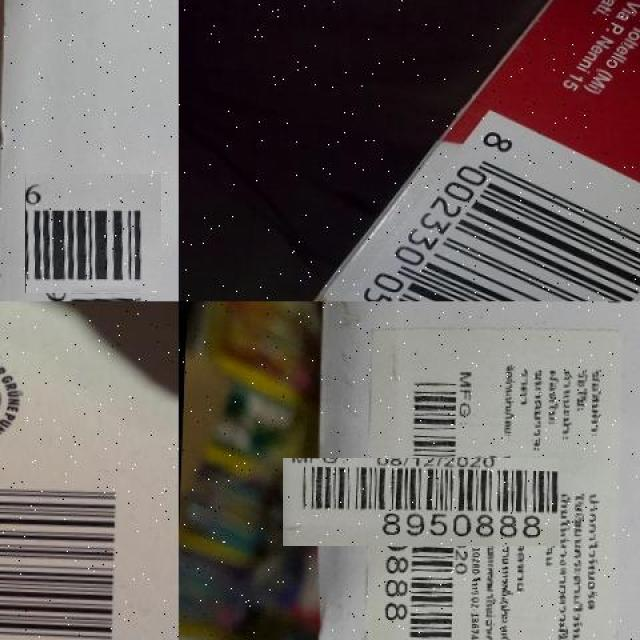Barcode: (280, 100, 640, 301), (330, 410, 512, 593), (0, 459, 130, 640), (29, 170, 158, 298)
